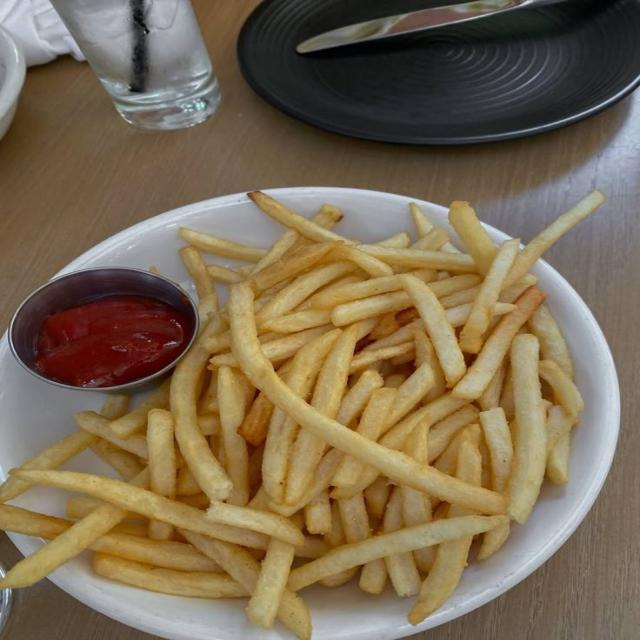potato fries: (0, 192, 601, 638)
